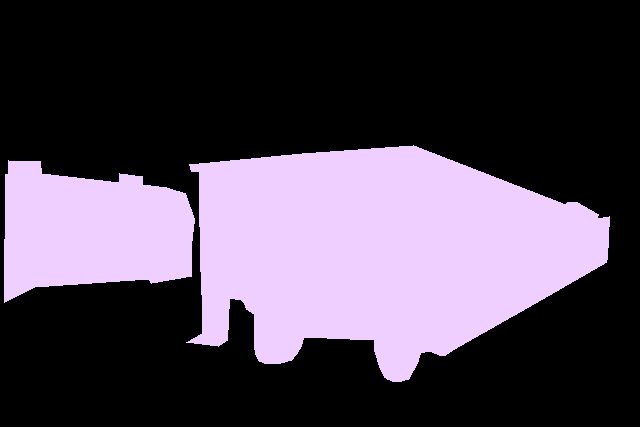Train: (186, 145, 610, 382), (4, 160, 194, 303)
